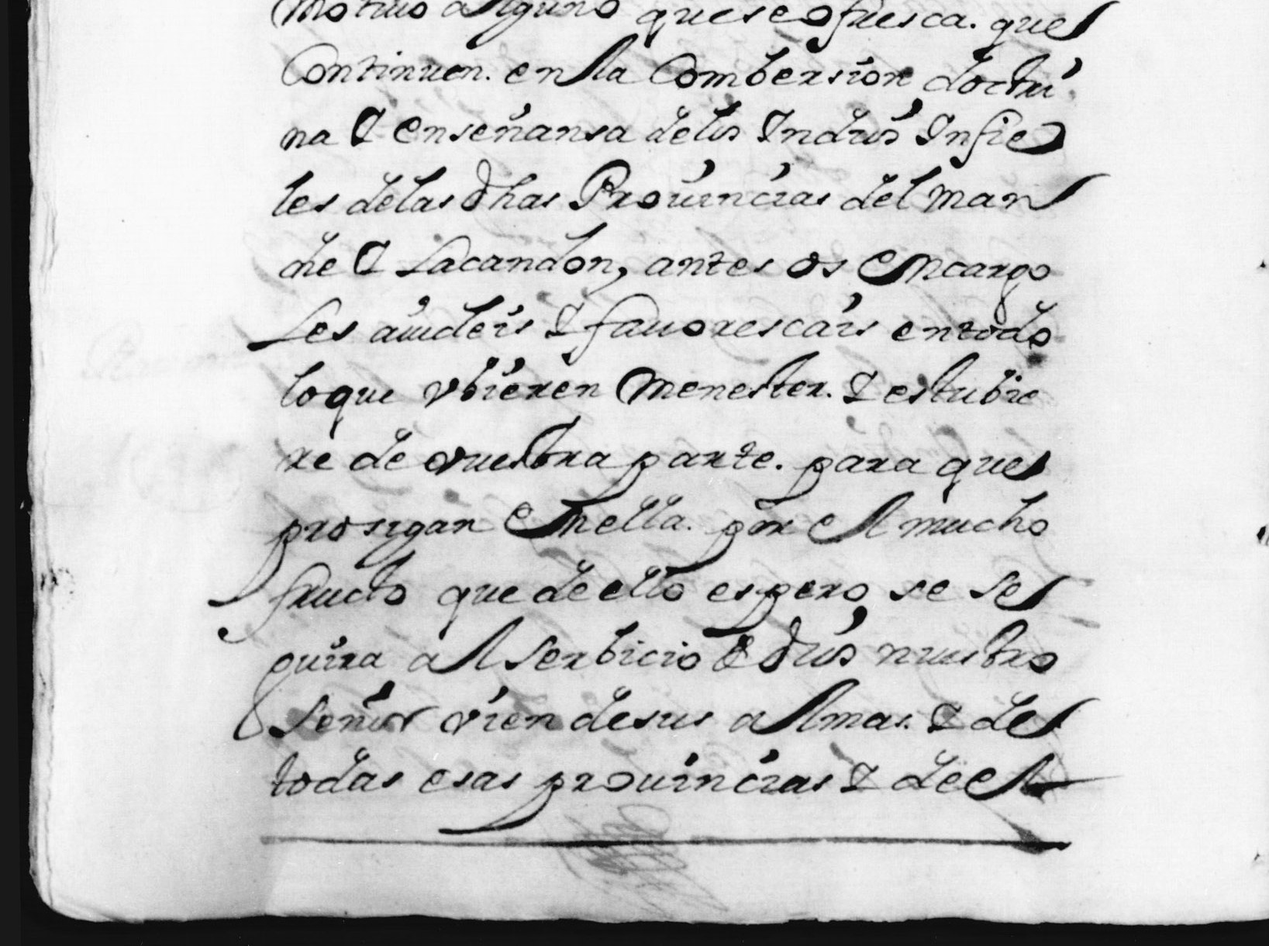lacandon: (395, 222, 612, 277)
